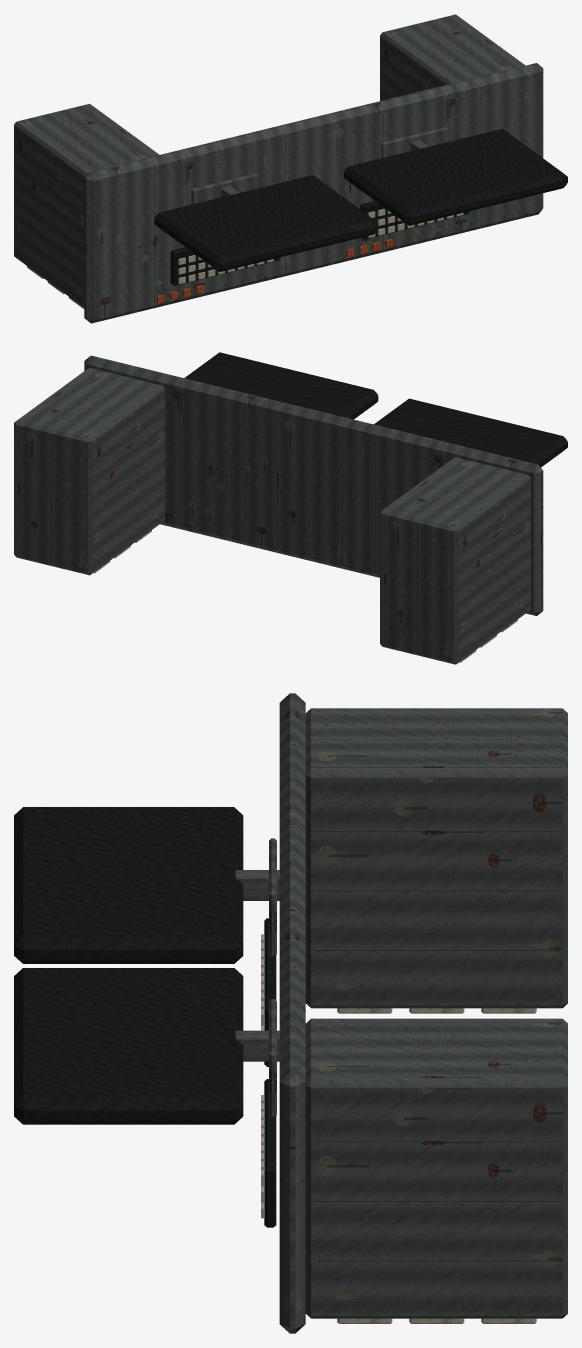
File: kit-command_console.obj
3 views of the same model, one above another, from view 1: azimuth 30°, elevation 25°; view 2: azimuth 150°, elevation 25°; view 3: azimuth 270°, elevation 25° (orthographic). The views are drawn at different scales.
Parts seen in each view (by area): view 1: Reusable.command_console; view 2: Reusable.command_console; view 3: Reusable.command_console.
Part boxes in pixels (box(x1,y1,x2,y2)): Reusable.command_console: box(14, 14, 567, 323); Reusable.command_console: box(14, 352, 567, 664); Reusable.command_console: box(14, 693, 567, 1333).
Bounding box in the file's own units: 7 × 2.22 × 4.22.
Materials: 5 (5 with a texture image).
